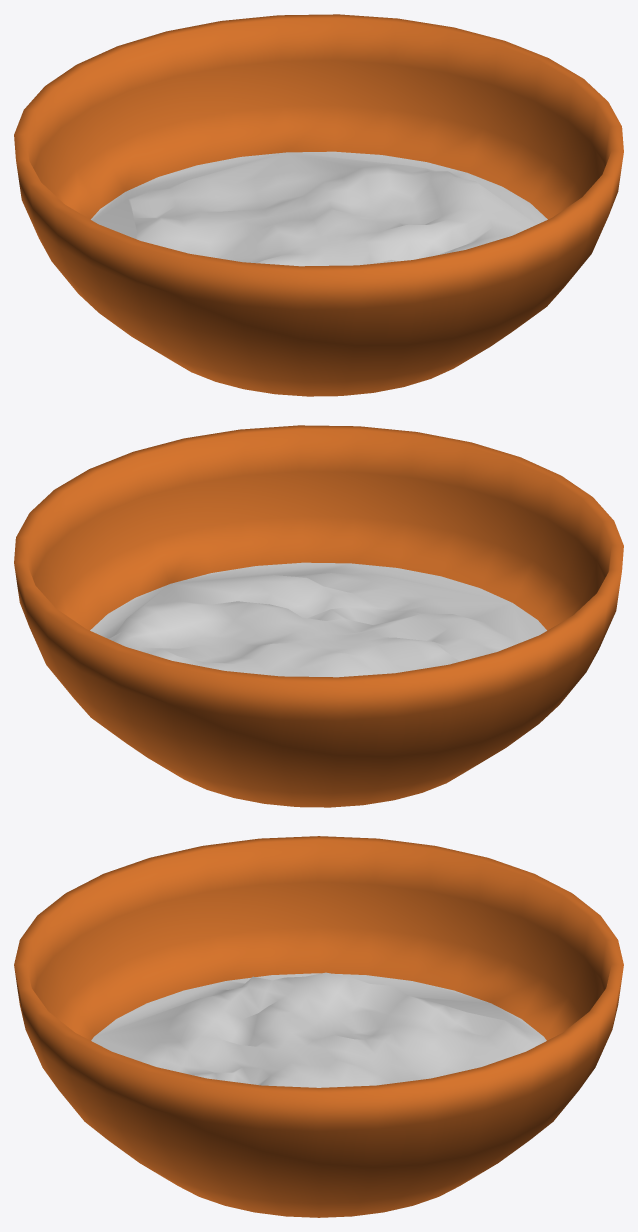
The model's file is bowl2-milk.fbx.
3 renders of one model, top to bottom at view 1: azimuth 30°, elevation 25°; view 2: azimuth 150°, elevation 25°; view 3: azimuth 270°, elevation 25°, orthographic.
Parts seen in each view (by area): view 1: Sphere; view 2: Sphere; view 3: Sphere.
Boxes of the visible parts, box(x1,y1,x2,y2) form: Sphere: box(14, 14, 623, 396); Sphere: box(14, 425, 623, 807); Sphere: box(14, 836, 623, 1217).
Bounding box in the file's own units: 208 × 75.14 × 208.
